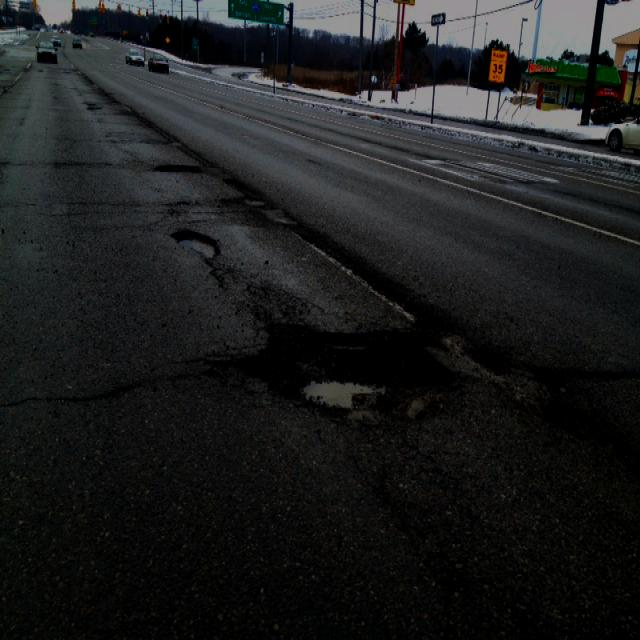Pothole: (196, 304, 459, 432), (167, 223, 230, 267)
